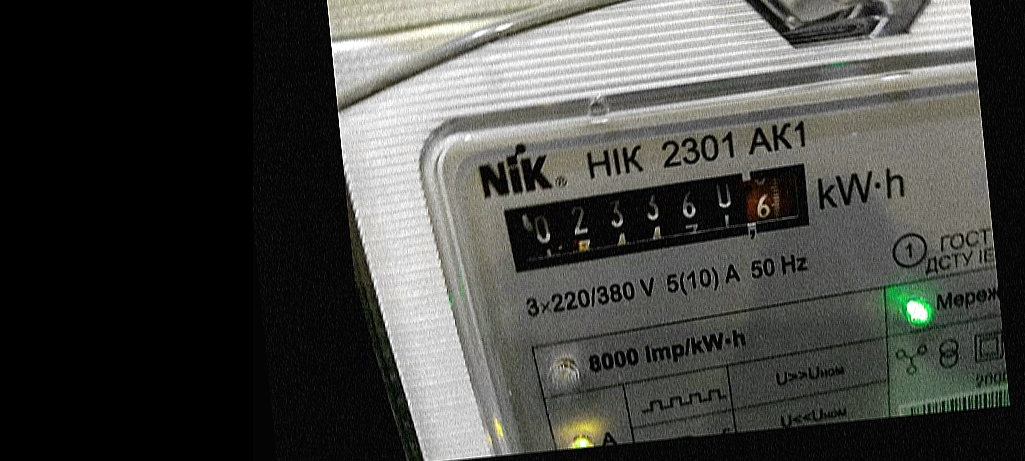0: (531, 210, 556, 246), (711, 178, 736, 211)
2: (569, 201, 592, 236)
3: (642, 187, 664, 222), (605, 197, 627, 230)
6: (677, 185, 701, 220), (753, 187, 777, 222)
screen: (486, 152, 832, 280)
